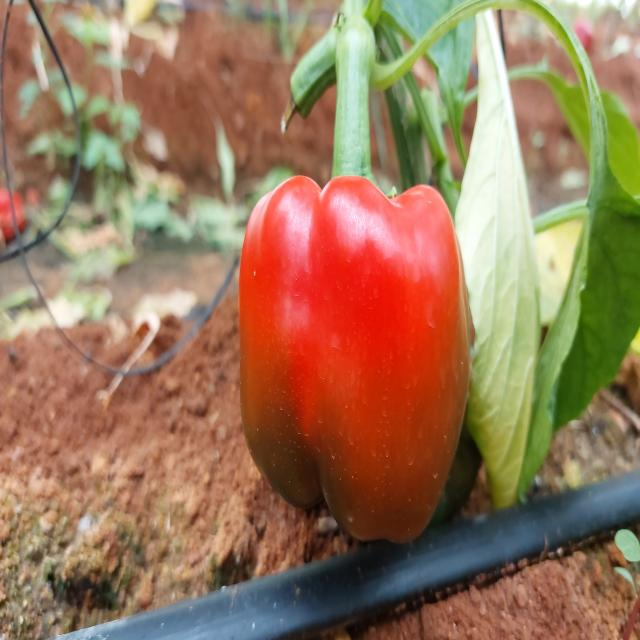Red-Ready-to-Harvest: (241, 165, 476, 543)
